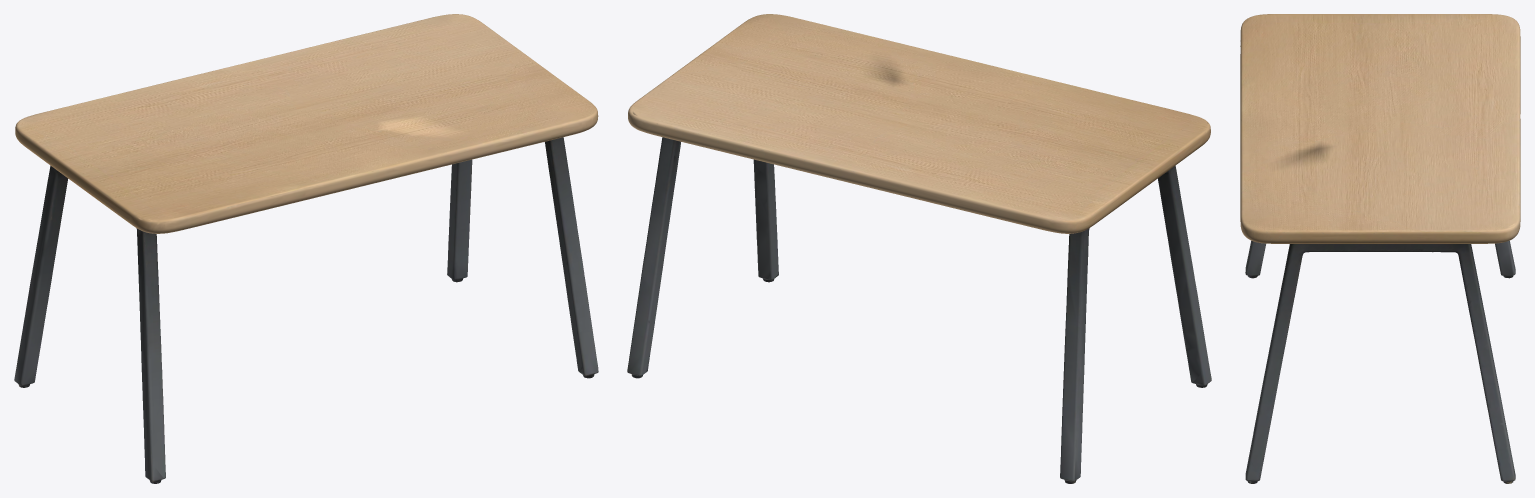
File: desk.glb
3 views of the same model, side by side, from view 1: azimuth 30°, elevation 25°; view 2: azimuth 150°, elevation 25°; view 3: azimuth 270°, elevation 25° (orthographic). The views are drawn at different scales.
Parts seen in each view (by area): view 1: node_0; view 2: node_0; view 3: node_0.
Part boxes in pixels (x1,y1,x2,y2): node_0: [14, 14, 598, 483]; node_0: [627, 14, 1211, 483]; node_0: [1240, 14, 1520, 483].
Size of the model in its own units: 0.9806 by 0.5374 by 0.531.
1 material, 1 textured.
